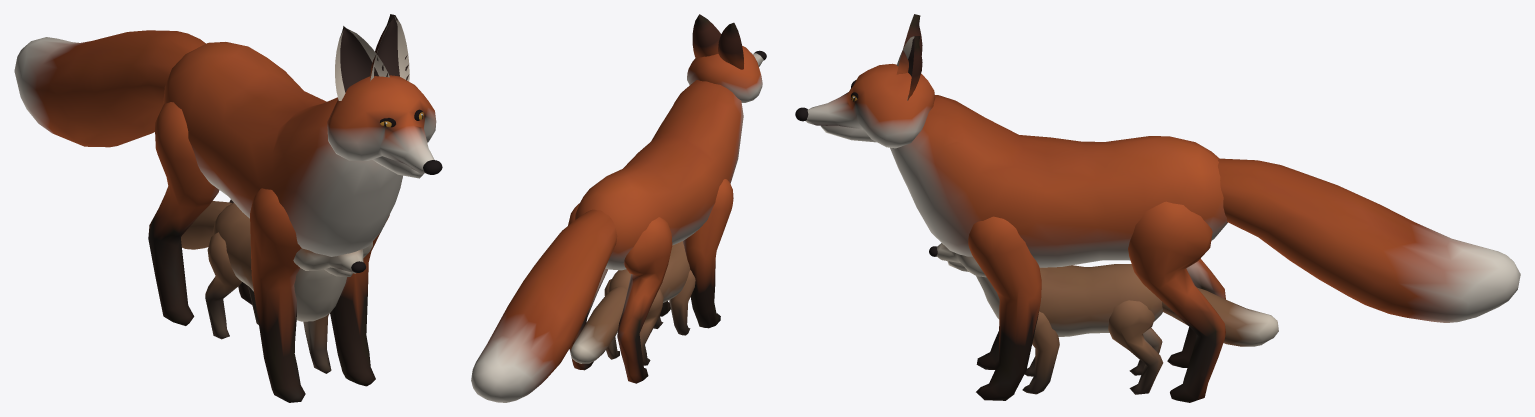
Rendered from beasts.glb.
3 renders of one model, left to right at view 1: azimuth 30°, elevation 25°; view 2: azimuth 150°, elevation 25°; view 3: azimuth 270°, elevation 25°, orthographic. The views are drawn at different scales.
Visible parts, largest first — view 1: fox, cub; view 2: fox, cub; view 3: fox, cub.
Part boxes in pixels (<box>): fox: <box>14,14,442,402</box>; cub: <box>181,201,372,373</box>; fox: <box>471,14,766,402</box>; cub: <box>570,241,695,365</box>; fox: <box>795,14,1520,402</box>; cub: <box>929,243,1278,394</box>.
Size of the model in its own units: 0.2542 by 0.705 by 1.29.
